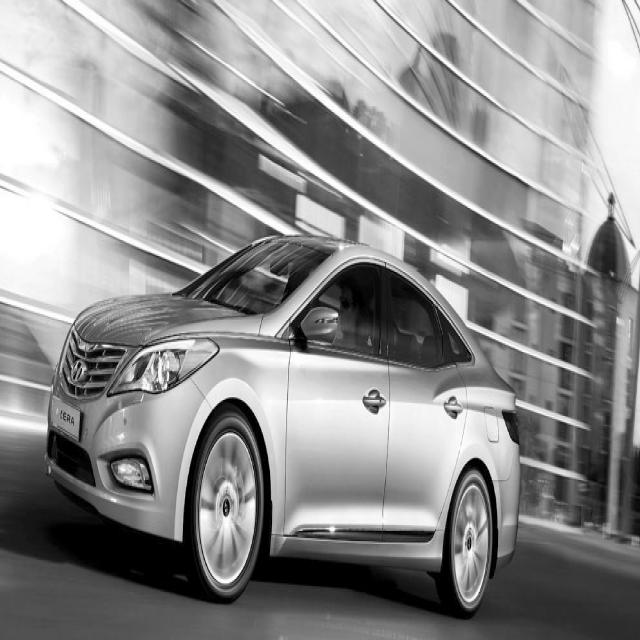car: (44, 231, 521, 618)
